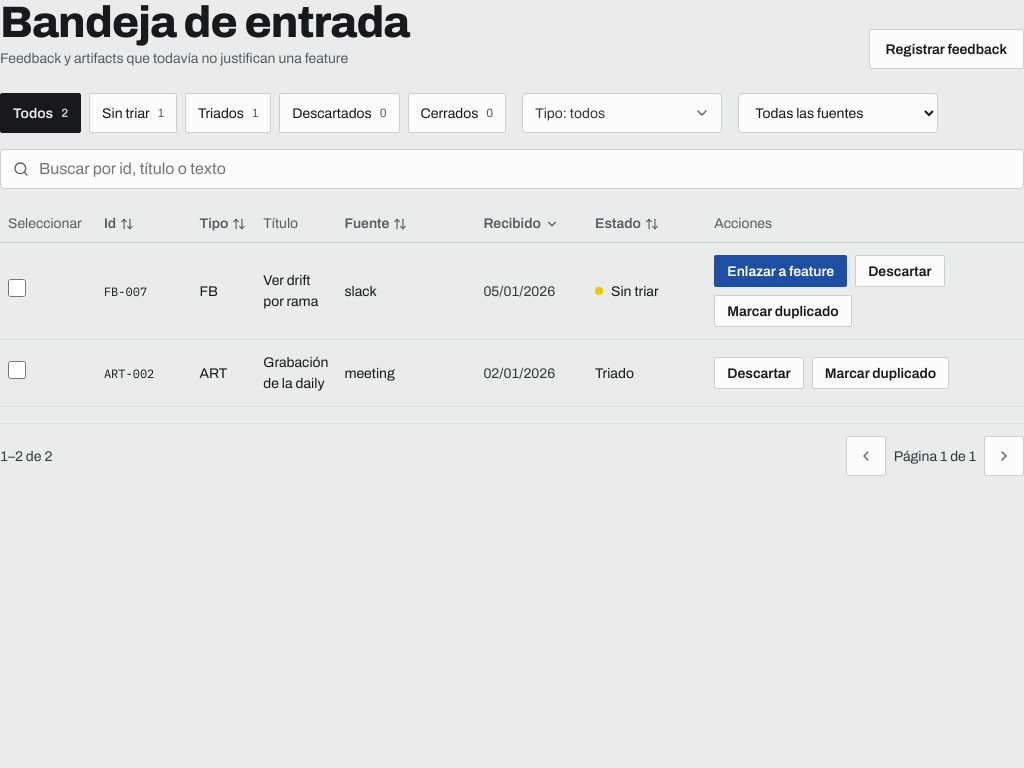
Test case: Entrada › links a feedback item to the best-matching candidate
Step 1. Click the button with aria-label "Enlazar FB-007 a una feature" → x=781, y=271, box [714, 255, 847, 287]
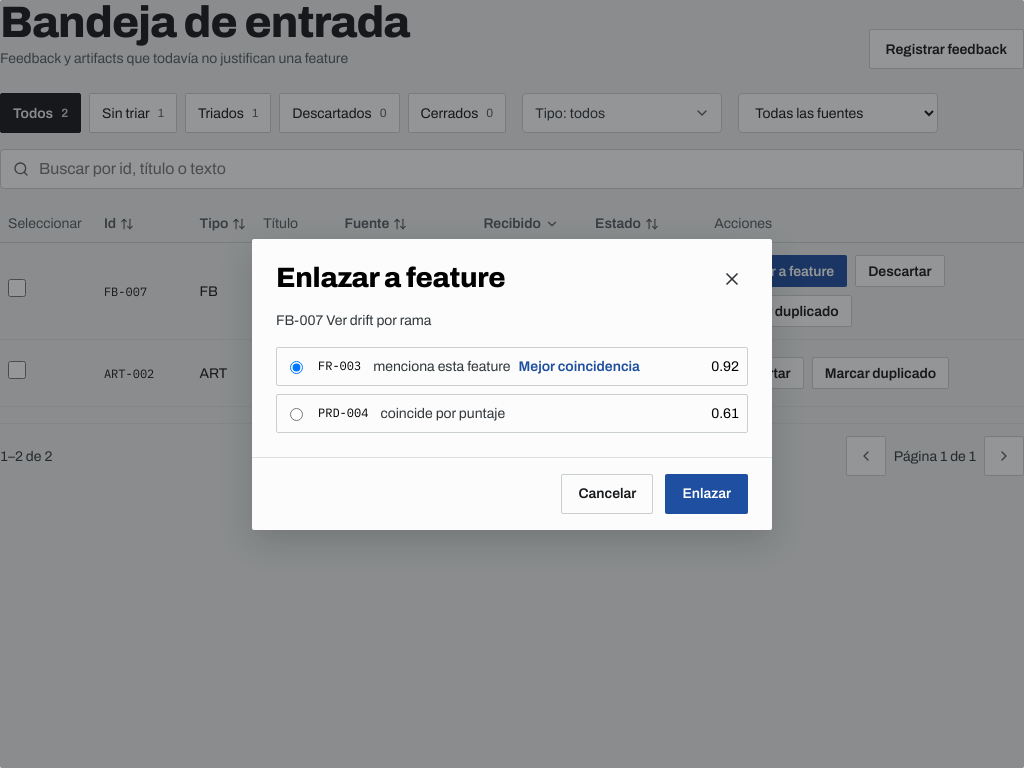
Check: the text "FR-003" is shown, box [318, 357, 361, 375]
Step 2. Click the button "Enlazar" → x=707, y=494, box [665, 474, 748, 514]
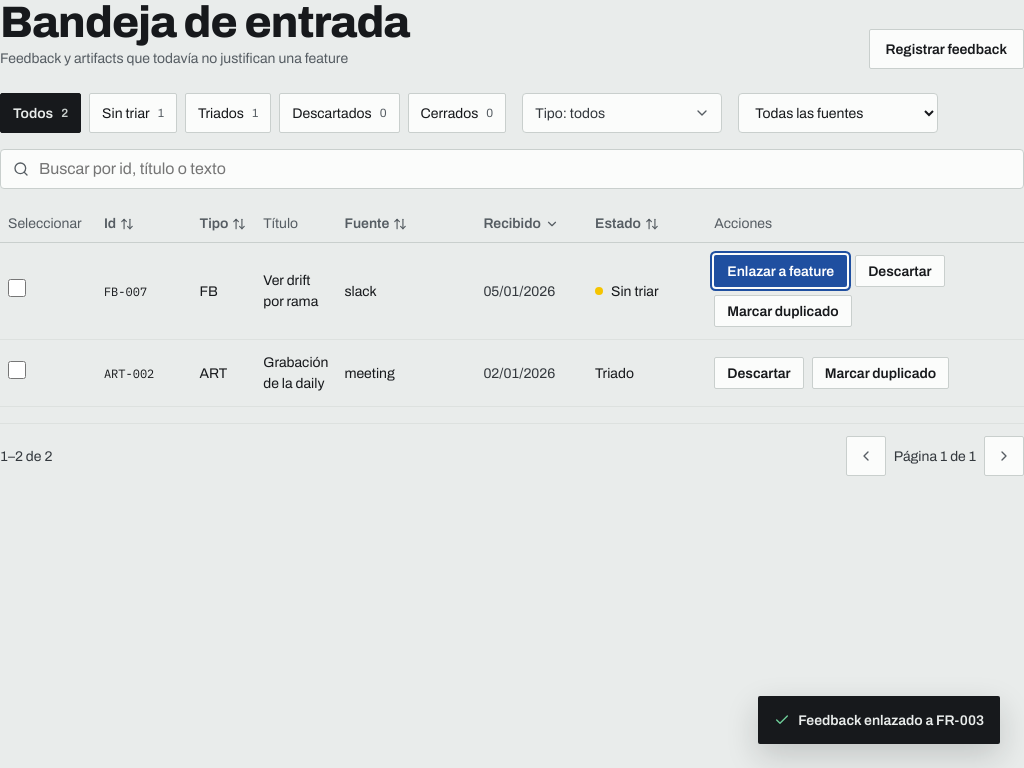
Check: the text "Feedback enlazado a FR-003" is shown, box [758, 696, 1000, 744]
